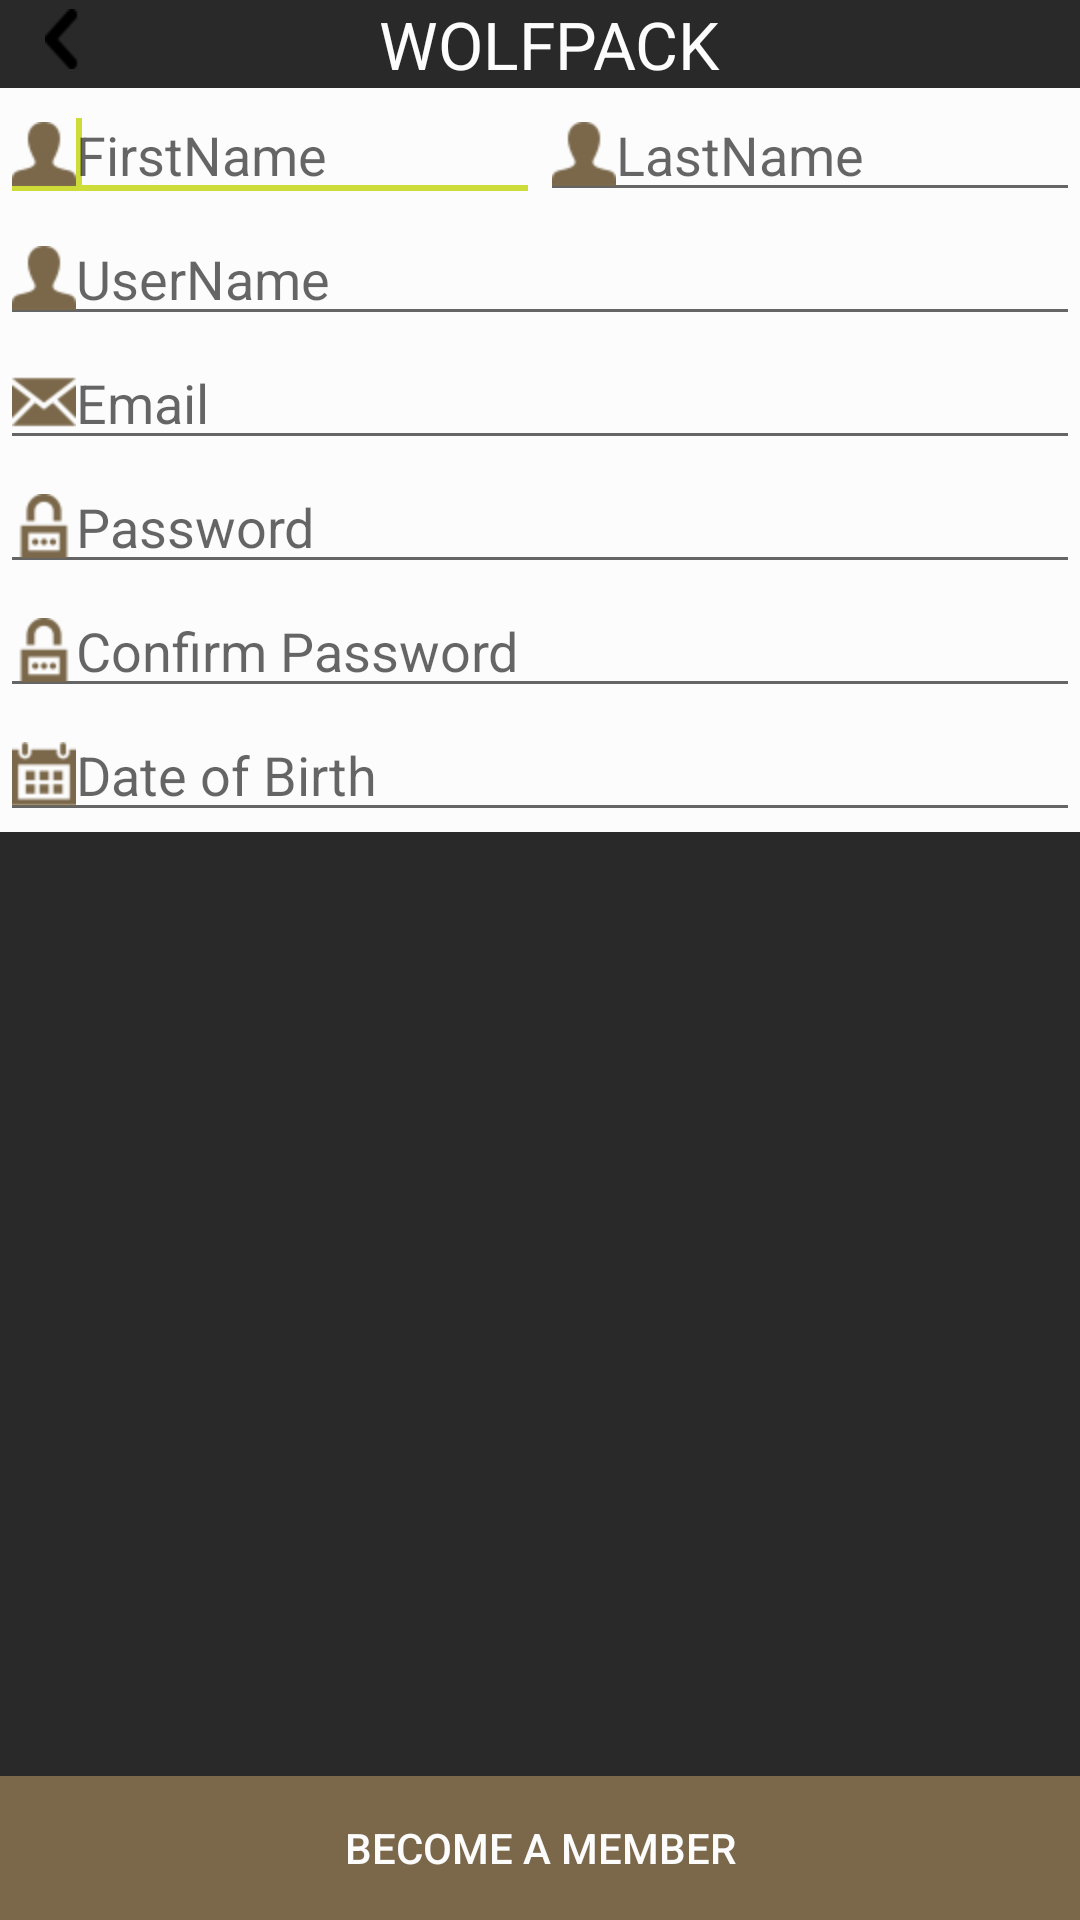

Screen size 1080px x 1920px. Icon name, then its center in pixels as [x,y]:
wolfpack back arrow: [61,39]
